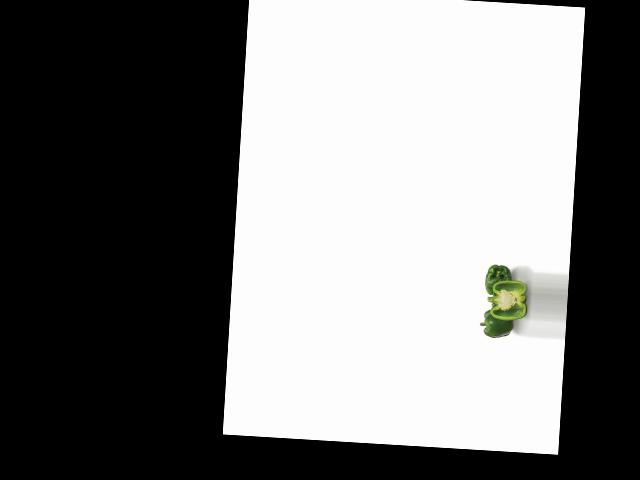bell_pepper: (481, 261, 516, 299)
